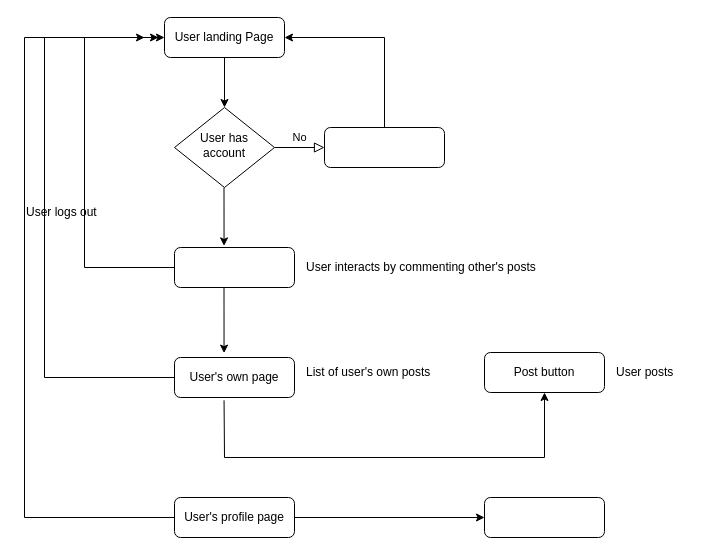
The diagram is 712 pixels wide and 555 high, and some of its shapes have lost their labels. The shapes that lost their labels are listed below. From the top down, each one's centre as x and y in pixels, then its label:
At point 384,147: "User register page".
At point 234,267: "Main Cat Page".
At point 544,517: "User Password Reset".
